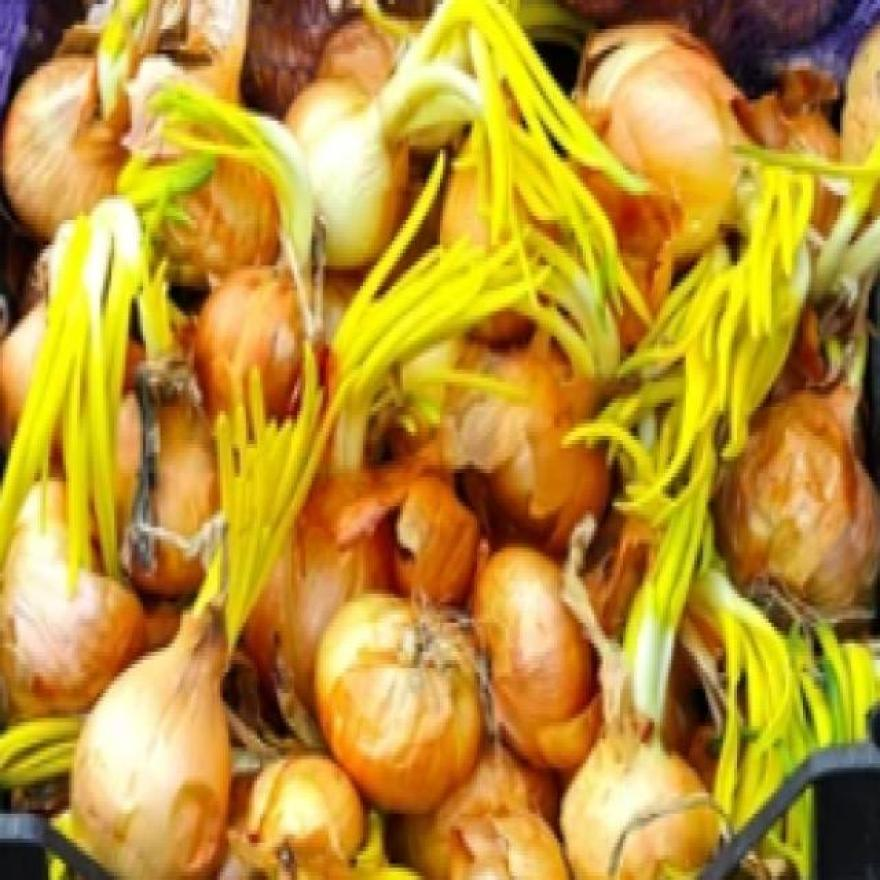Rotten: (120, 311, 174, 577), (349, 647, 446, 768)
Sprouted: (357, 41, 502, 154), (192, 444, 254, 664), (629, 523, 675, 731)
